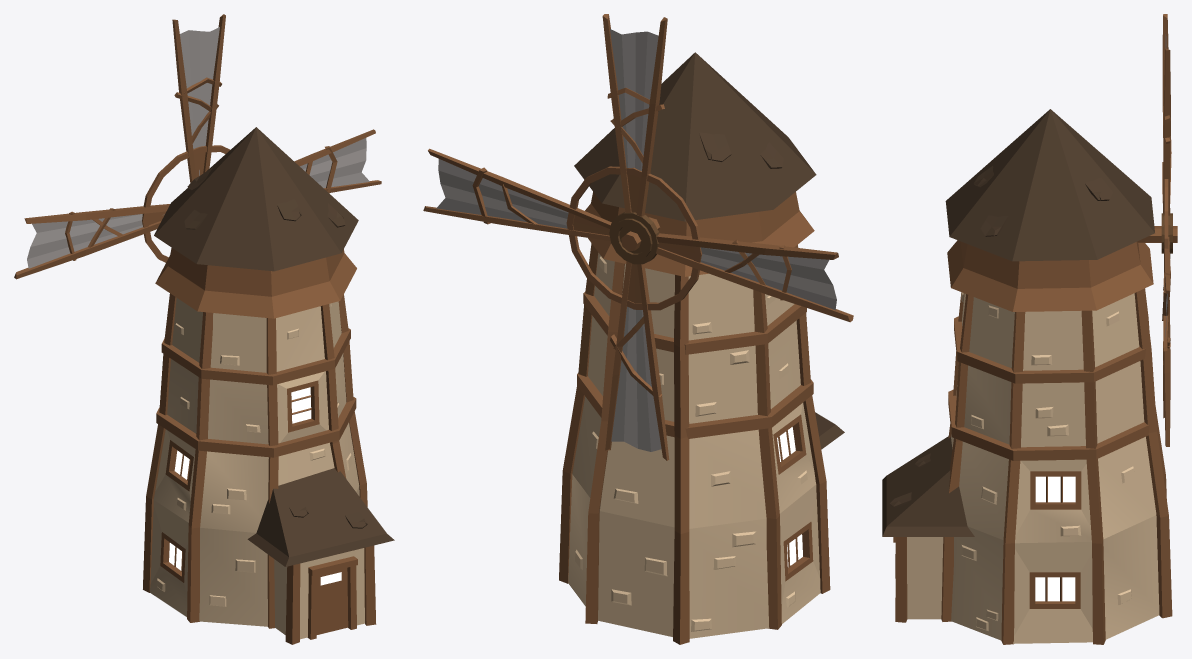
Rendered from medieval-windmill-medieval.glb.
3 renders of one model, left to right at view 1: azimuth 30°, elevation 25°; view 2: azimuth 150°, elevation 25°; view 3: azimuth 270°, elevation 25°, orthographic. The views are drawn at different scales.
Visible parts, largest first — view 1: windmill-base-medieval, windmill-propeller-medieval; view 2: windmill-base-medieval, windmill-propeller-medieval; view 3: windmill-base-medieval, windmill-propeller-medieval.
Boxes of the visible parts, left/top/right/bottom form: windmill-base-medieval: left=143, top=127, right=394, bottom=644; windmill-propeller-medieval: left=14, top=14, right=381, bottom=279; windmill-base-medieval: left=559, top=52, right=844, bottom=644; windmill-propeller-medieval: left=423, top=14, right=853, bottom=460; windmill-base-medieval: left=882, top=109, right=1172, bottom=644; windmill-propeller-medieval: left=1137, top=14, right=1177, bottom=446.
Size of the model in its own units: 10.46 by 14.49 by 6.83.
